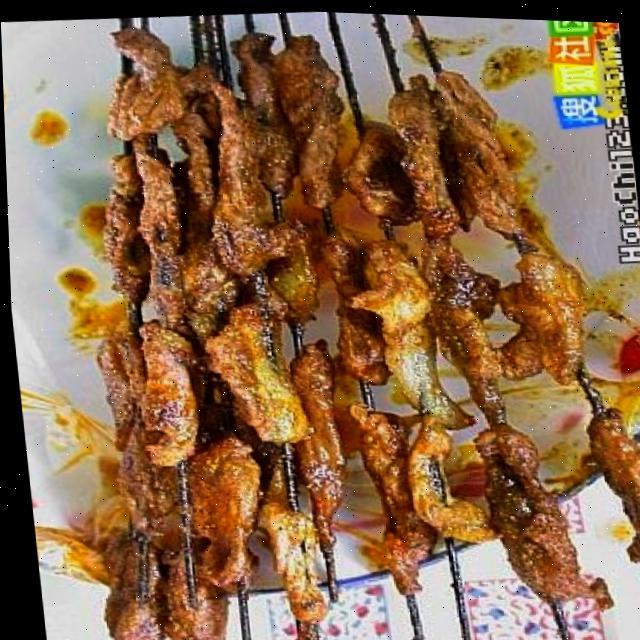烧串烤肉: (1, 2, 640, 640)
